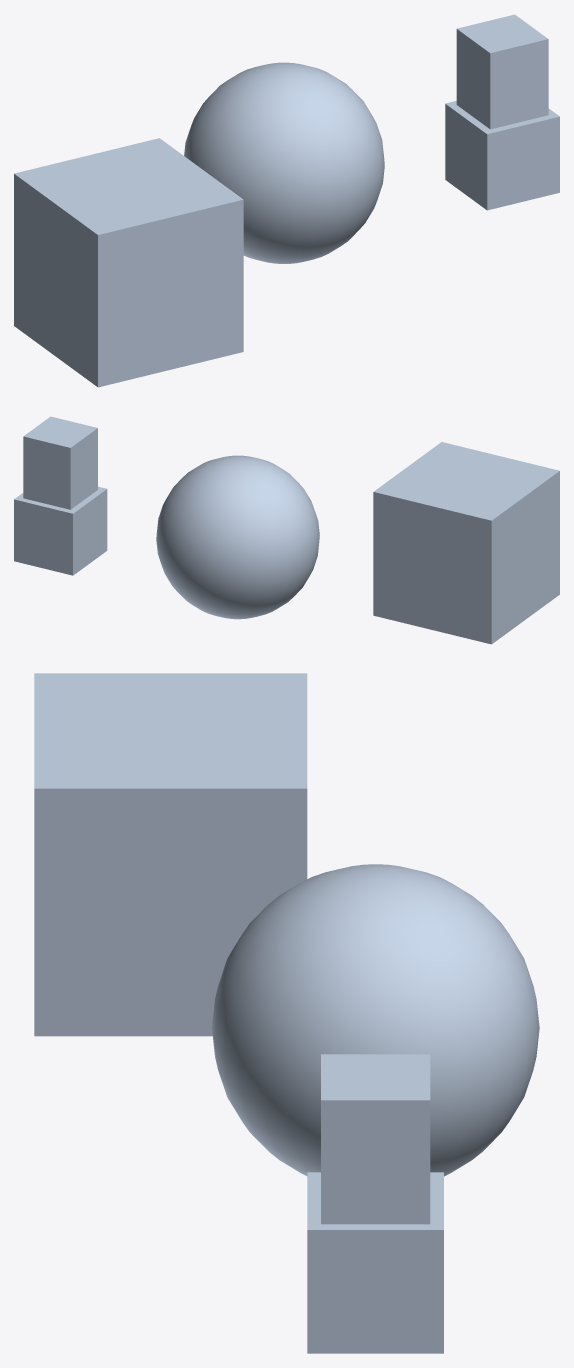
File: scene-edited.glb
3 views of the same model, one above another, from view 1: azimuth 30°, elevation 25°; view 2: azimuth 150°, elevation 25°; view 3: azimuth 270°, elevation 25° (orthographic). The views are drawn at different scales.
Parts seen in each view (by area): view 1: Box, Sphere, Small Box, Tall Box; view 2: Box, Sphere, Small Box, Tall Box; view 3: Box, Sphere, Small Box, Tall Box.
Boxes of the visible parts, bbox=[...] form: Box: bbox=[14, 138, 243, 387]; Sphere: bbox=[184, 62, 384, 263]; Small Box: bbox=[445, 101, 559, 210]; Tall Box: bbox=[456, 14, 548, 129]; Box: bbox=[373, 442, 559, 644]; Sphere: bbox=[156, 455, 319, 619]; Small Box: bbox=[14, 486, 107, 575]; Tall Box: bbox=[23, 416, 97, 509]; Box: bbox=[34, 673, 307, 1036]; Sphere: bbox=[212, 864, 539, 1176]; Small Box: bbox=[307, 1172, 443, 1353]; Tall Box: bbox=[321, 1054, 430, 1224].
Bounding box in the file's own units: 3.75 × 1.2 × 1.85.
